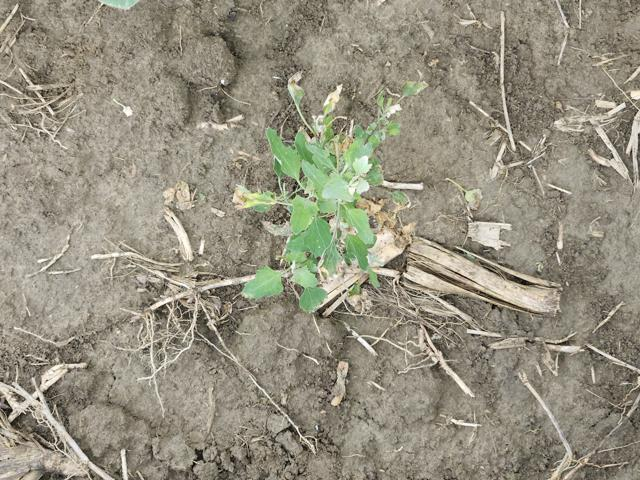bad weed: (225, 68, 448, 344)
